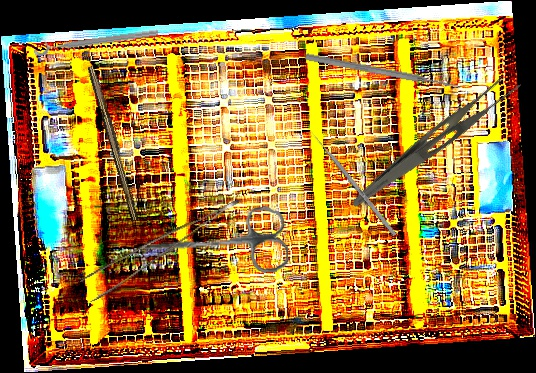Dressing Forceps: (349, 63, 525, 225)
Fixation Ring: (32, 19, 159, 57)
Iris Scissors: (136, 204, 290, 284)
Pusher: (308, 128, 397, 237), (304, 51, 463, 93)
Scalpel Handle: (84, 64, 144, 222)
Tissue Forceps: (75, 199, 253, 303)
